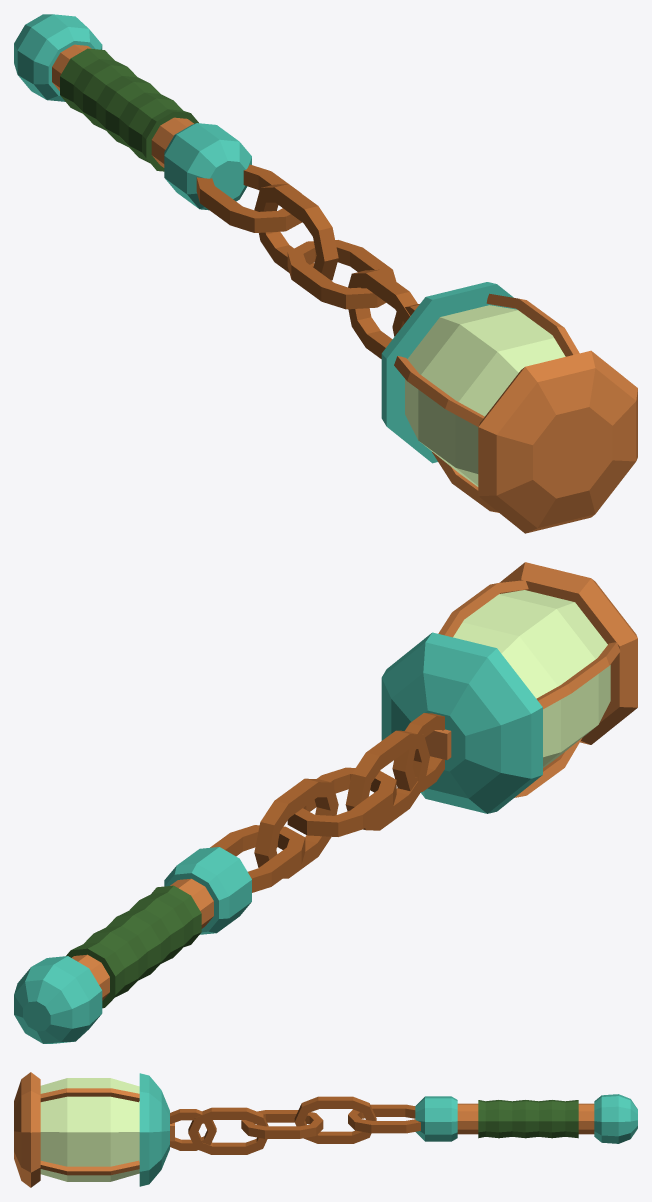
File: w2_weapon_lanternflail.fbx
3 views of the same model, one above another, from view 1: azimuth 30°, elevation 25°; view 2: azimuth 150°, elevation 25°; view 3: azimuth 270°, elevation 25° (orthographic). The views are drawn at different scales.
Parts seen in each view (by area): view 1: LanternFlail.LanternFrame, LanternFlail.Glass, LanternFlail.Patina, LanternFlail.Wrap, LanternFlail.LanternPatina, LanternFlail.Link3, LanternFlail.Link2, LanternFlail.Link1, LanternFlail.Link4, LanternFlail.Frame; view 2: LanternFlail.LanternPatina, LanternFlail.Glass, LanternFlail.LanternFrame, LanternFlail.Patina, LanternFlail.Wrap, LanternFlail.Link4, LanternFlail.Link2, LanternFlail.Link3, LanternFlail.Link1, LanternFlail.Link5, LanternFlail.Frame; view 3: LanternFlail.Glass, LanternFlail.LanternFrame, LanternFlail.Wrap, LanternFlail.Patina, LanternFlail.LanternPatina, LanternFlail.Link4, LanternFlail.Link2, LanternFlail.Link3, LanternFlail.Link1, LanternFlail.Frame, LanternFlail.Link5.
Boxes of the visible parts, <box> form: LanternFlail.LanternFrame: <box>394,293,637,533</box>; LanternFlail.Glass: <box>405,305,565,486</box>; LanternFlail.Patina: <box>14,14,251,210</box>; LanternFlail.Wrap: <box>60,48,198,171</box>; LanternFlail.LanternPatina: <box>381,282,516,463</box>; LanternFlail.Link3: <box>287,240,396,309</box>; LanternFlail.Link2: <box>254,184,338,280</box>; LanternFlail.Link1: <box>196,164,301,232</box>; LanternFlail.Link4: <box>348,269,417,358</box>; LanternFlail.Frame: <box>52,44,193,167</box>; LanternFlail.LanternPatina: <box>381,632,542,813</box>; LanternFlail.Glass: <box>453,590,610,767</box>; LanternFlail.LanternFrame: <box>425,562,637,797</box>; LanternFlail.Patina: <box>14,847,251,1043</box>; LanternFlail.Wrap: <box>66,885,201,1008</box>; LanternFlail.Link4: <box>345,730,429,830</box>; LanternFlail.Link2: <box>254,778,338,878</box>; LanternFlail.Link3: <box>287,767,396,836</box>; LanternFlail.Link1: <box>210,825,305,892</box>; LanternFlail.Link5: <box>392,713,444,791</box>; LanternFlail.Frame: <box>72,878,213,1000</box>; LanternFlail.Glass: <box>40,1078,139,1181</box>; LanternFlail.LanternFrame: <box>14,1072,174,1187</box>; LanternFlail.Wrap: <box>478,1100,578,1138</box>; LanternFlail.Patina: <box>415,1094,637,1143</box>; LanternFlail.LanternPatina: <box>139,1073,169,1186</box>; LanternFlail.Link4: <box>188,1107,268,1154</box>; LanternFlail.Link2: <box>294,1096,376,1143</box>; LanternFlail.Link3: <box>241,1110,323,1138</box>; LanternFlail.Link1: <box>348,1104,420,1133</box>; LanternFlail.Frame: <box>457,1103,594,1134</box>; LanternFlail.Link5: <box>170,1109,216,1150</box>.
Size of the model in its own units: 0.9143 by 0.9143 by 5.16.
